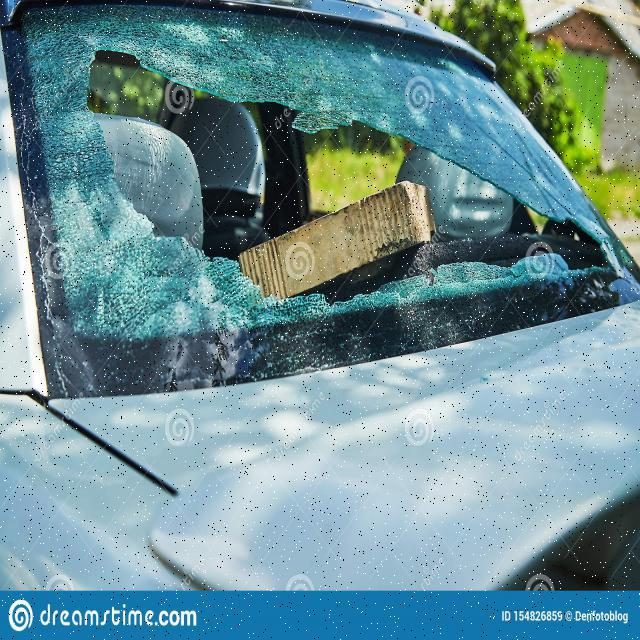Rear-windscreen-Damage: (0, 0, 636, 430)
